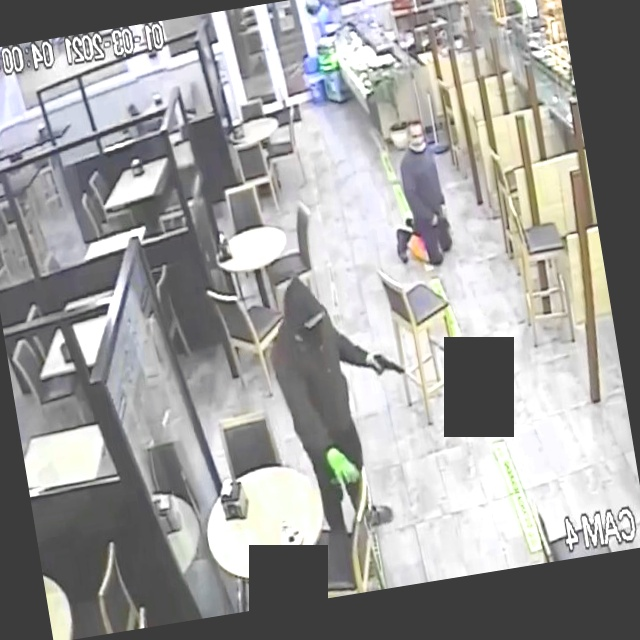gun: (361, 335, 415, 398)
